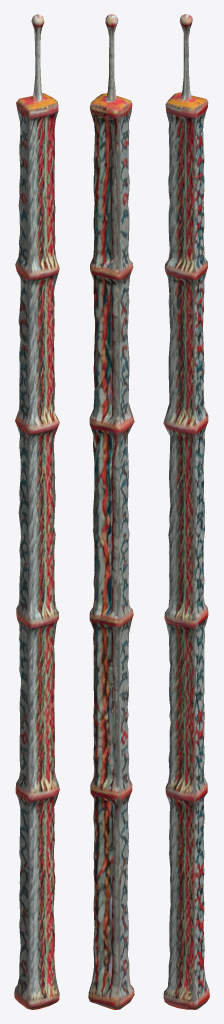
Rendered from 남산_최상부안테나.glb.
3 renders of one model, left to right at view 1: azimuth 30°, elevation 25°; view 2: azimuth 150°, elevation 25°; view 3: azimuth 330°, elevation 25°, orthographic.
Visible parts, largest first — view 1: texture_mapping; view 2: texture_mapping; view 3: texture_mapping.
Part boxes in pixels (bbox=[...]): texture_mapping: bbox=[14, 14, 59, 1009]; texture_mapping: bbox=[88, 14, 134, 1009]; texture_mapping: bbox=[163, 14, 209, 1009].
Size of the model in its own units: 0.0359 by 1.01 by 0.0328.
1 material, 1 textured.
